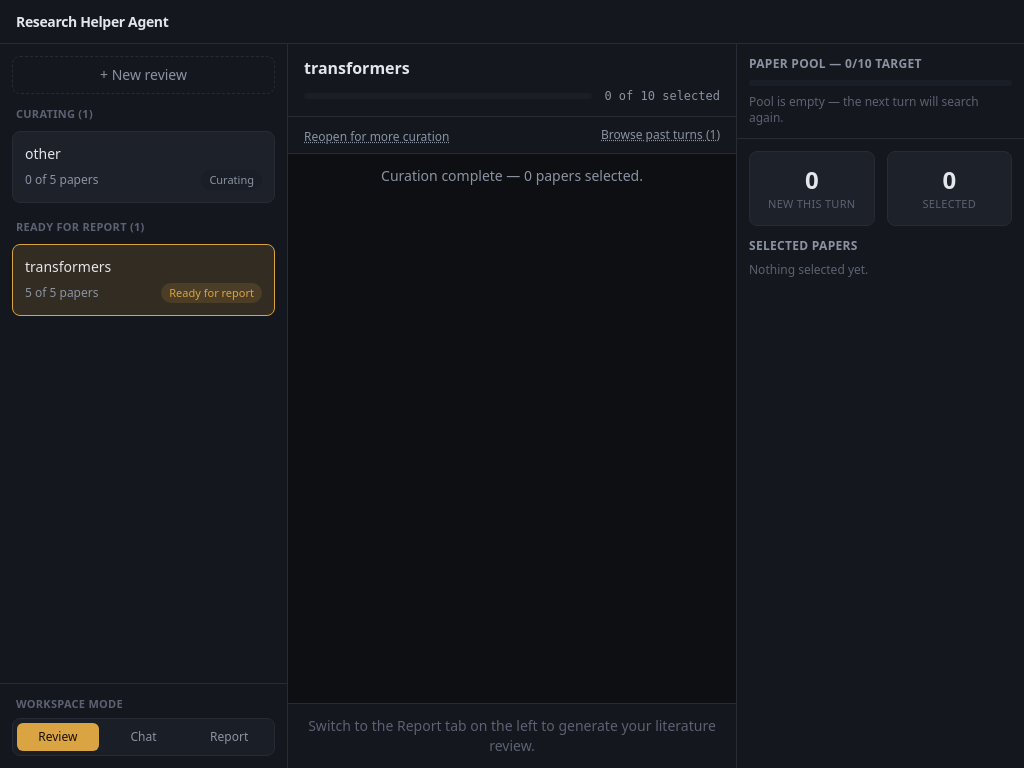
App › chat UX fixes, bug 1: switching to Report mode closes the turn history browser if it was already open
Click the button with test id "open-turn-history" at (660, 135), box [601, 127, 720, 143]
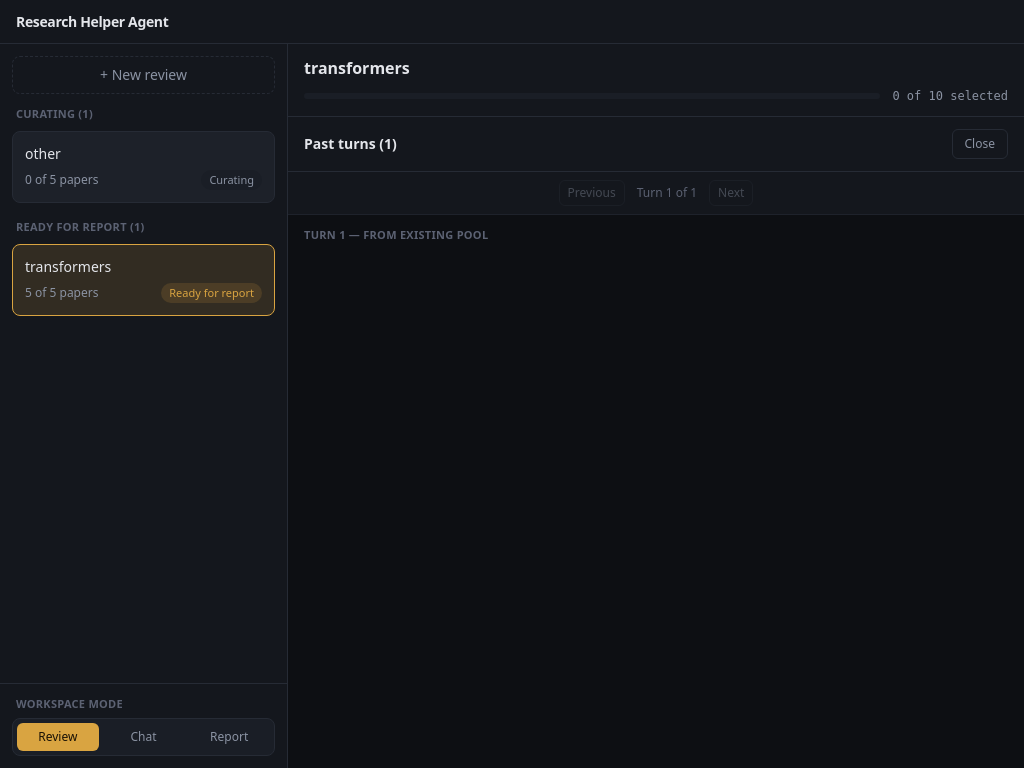
expect the button with test id "close-turn-history" is shown: met, box [952, 129, 1008, 159]
Click the button with test id "workspace-mode-report" at (229, 737), box [188, 723, 270, 751]
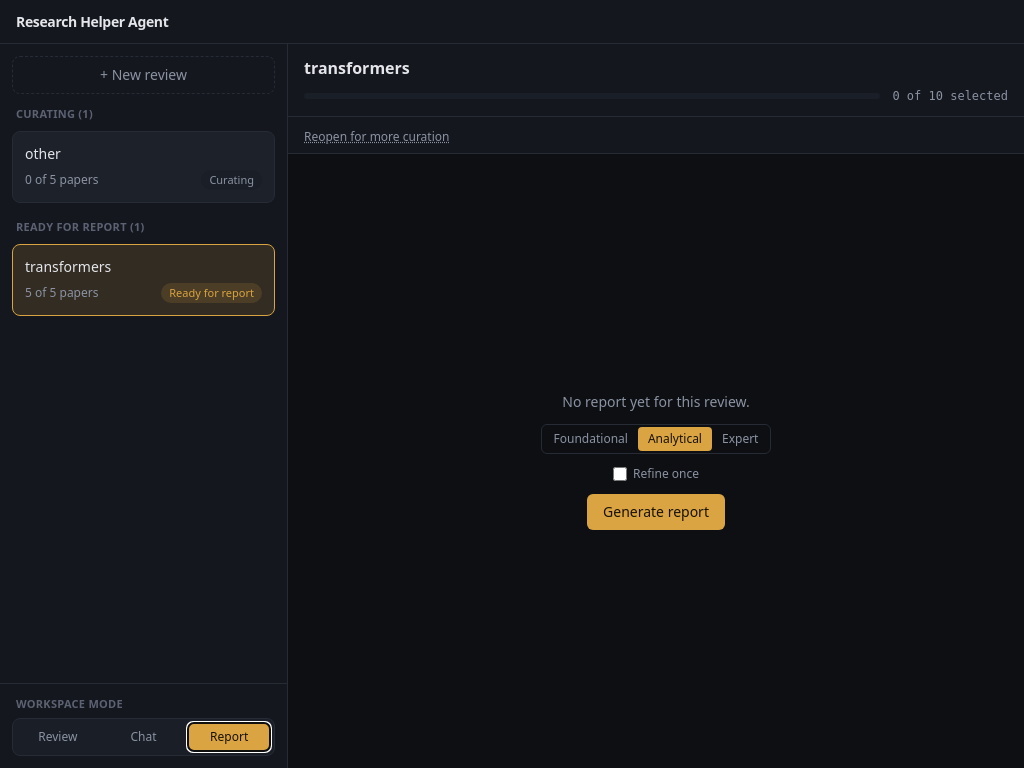
expect the button with test id "close-turn-history" is gone: met
expect the button with test id "generate-report" is shown: met, box [587, 494, 725, 530]
